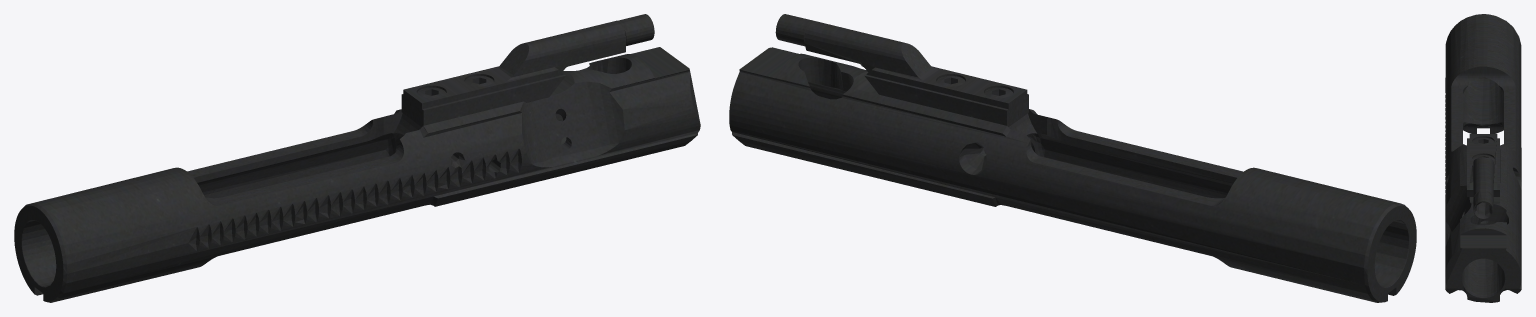
The model's file is Key_and_Bolt_Carrier_Assembly.dae.
3 renders of one model, left to right at view 1: azimuth 30°, elevation 25°; view 2: azimuth 150°, elevation 25°; view 3: azimuth 270°, elevation 25°, orthographic. The views are drawn at different scales.
Parts seen in each view (by area): view 1: Key_and_Bolt_Carrier_Assembly; view 2: Key_and_Bolt_Carrier_Assembly; view 3: Key_and_Bolt_Carrier_Assembly.
Boxes of the visible parts, bbox=[...] form: Key_and_Bolt_Carrier_Assembly: bbox=[14, 14, 700, 302]; Key_and_Bolt_Carrier_Assembly: bbox=[729, 14, 1416, 302]; Key_and_Bolt_Carrier_Assembly: bbox=[1445, 14, 1521, 302].
Size of the model in its own units: 0.1652 by 0.0231 by 0.0338.
Materials: 1 (1 with a texture image).
